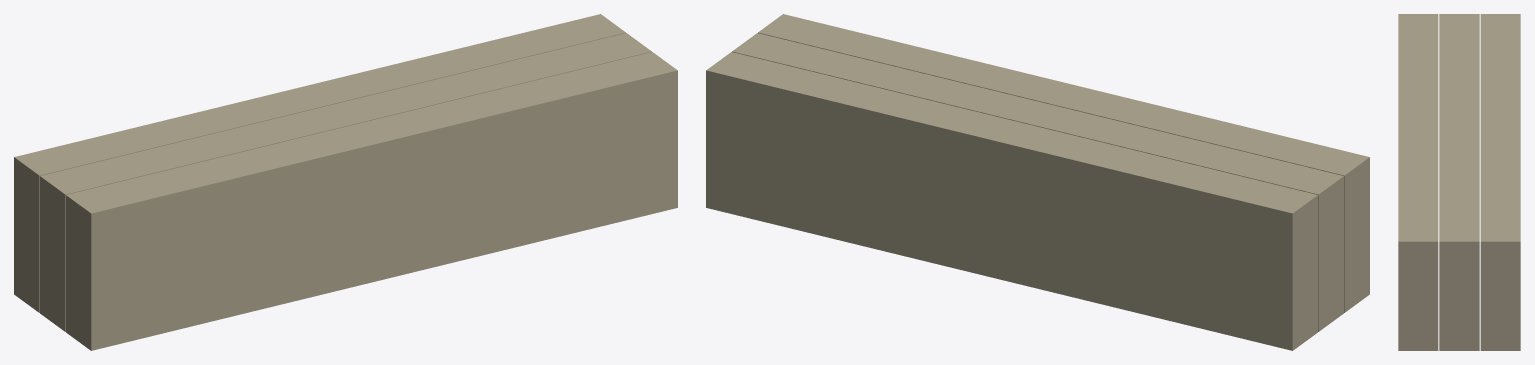
Rendered from payload.dae.
The picture shows the model from 3 angles, left to right: view 1: azimuth 30°, elevation 25°; view 2: azimuth 150°, elevation 25°; view 3: azimuth 270°, elevation 25°; orthographic projection. The views are drawn at different scales.
Parts seen in each view (by area): view 1: node; view 2: node; view 3: node.
Boxes of the visible parts, x1=… form: node: x1=14, y1=14, x2=677, y2=350; node: x1=706, y1=14, x2=1369, y2=350; node: x1=1398, y1=14, x2=1520, y2=350.
Size of the model in its own units: 2.68 by 0.61 by 0.6.
